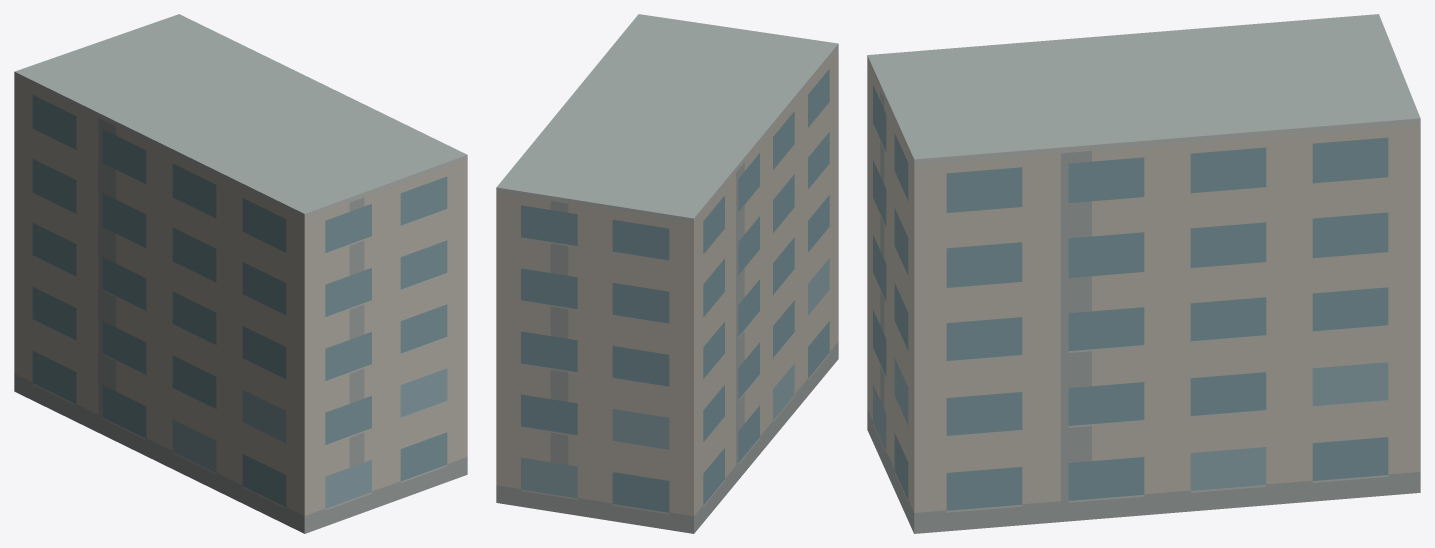
File: survey-upis-32906264.glb
The picture shows the model from 3 angles, left to right: view 1: azimuth 30°, elevation 25°; view 2: azimuth 150°, elevation 25°; view 3: azimuth 270°, elevation 25°; orthographic projection. The views are drawn at different scales.
Visible parts, largest first — view 1: survey-upis-32906264.tmp; view 2: survey-upis-32906264.tmp; view 3: survey-upis-32906264.tmp.
Part boxes in pixels (x1,y1,x2,y2): survey-upis-32906264.tmp: [14, 14, 467, 533]; survey-upis-32906264.tmp: [496, 14, 838, 533]; survey-upis-32906264.tmp: [867, 14, 1420, 533].
Bounding box in the file's own units: 13.09 × 15.7 × 21.04.
